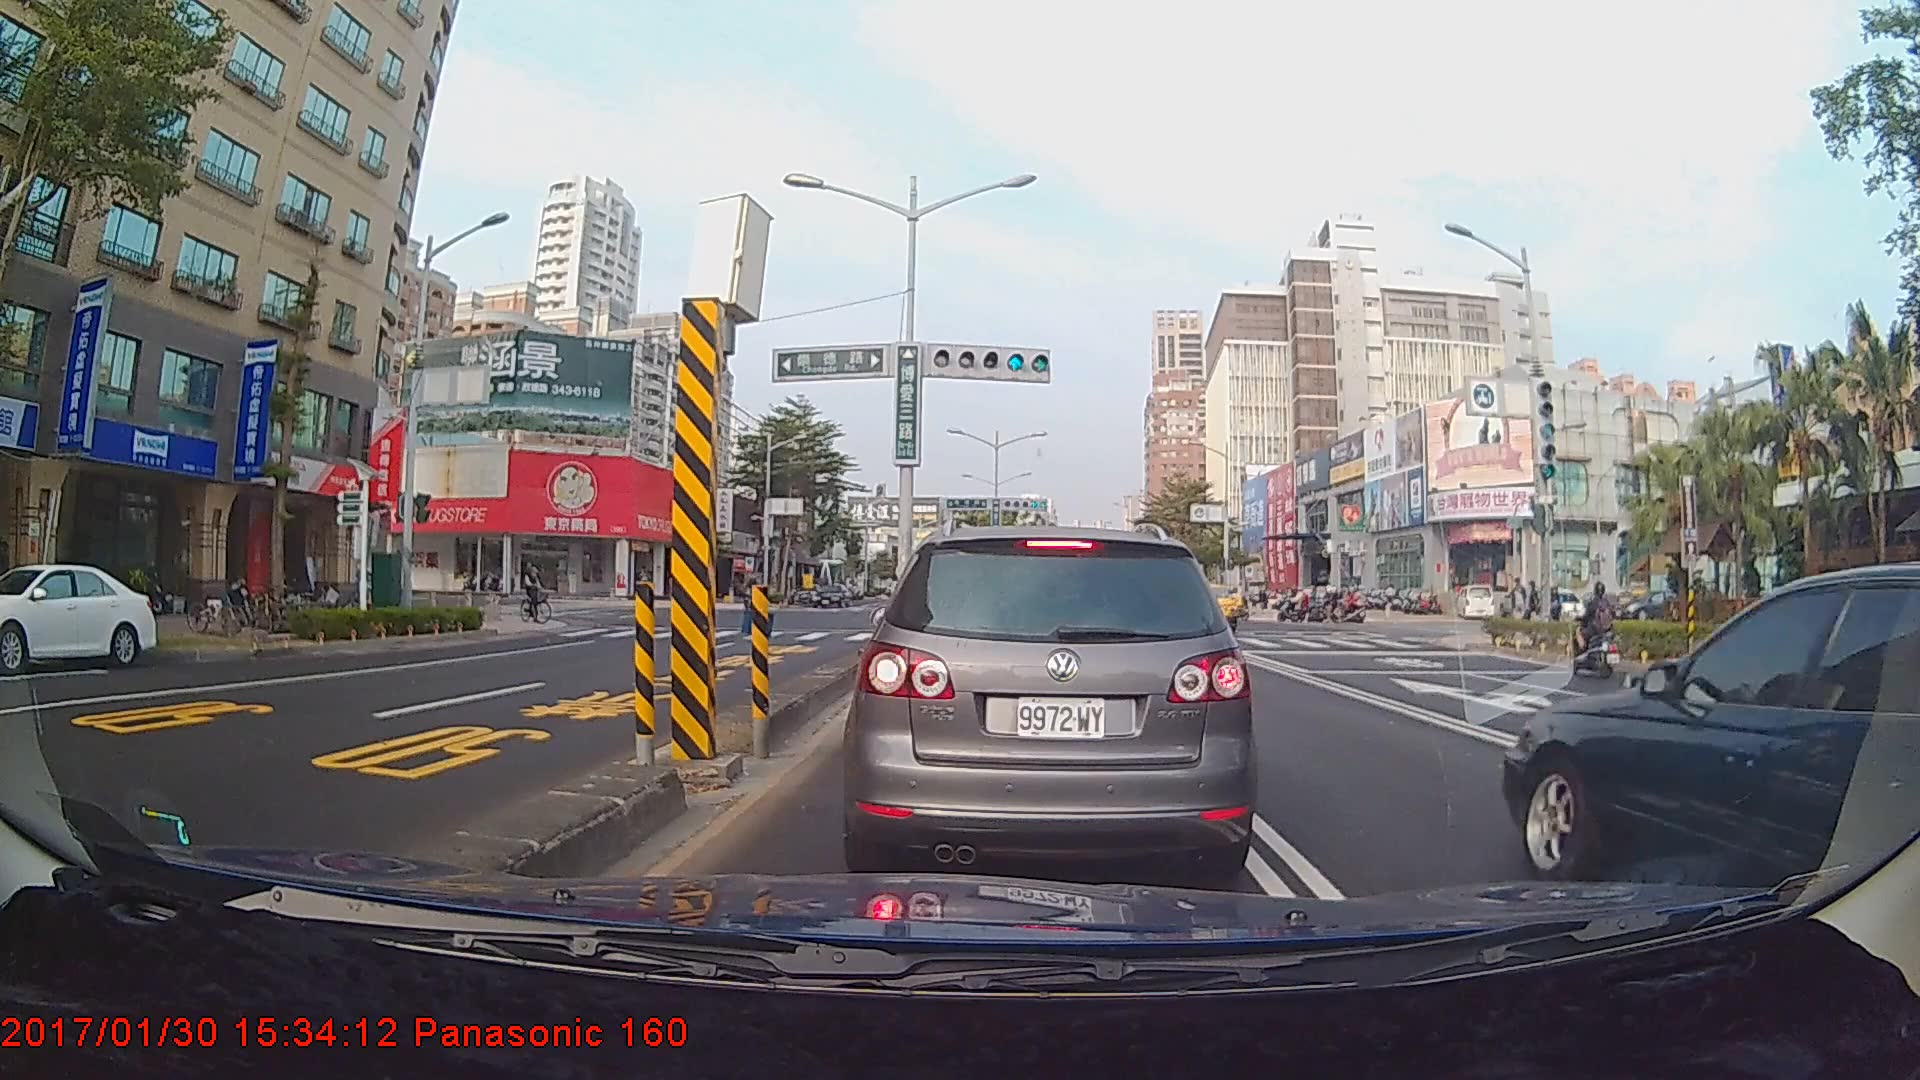rider: (1567, 580, 1624, 681), (518, 559, 561, 629)
vehicle: (1503, 559, 1920, 916), (854, 521, 1248, 884), (0, 561, 160, 671), (811, 584, 848, 609)
